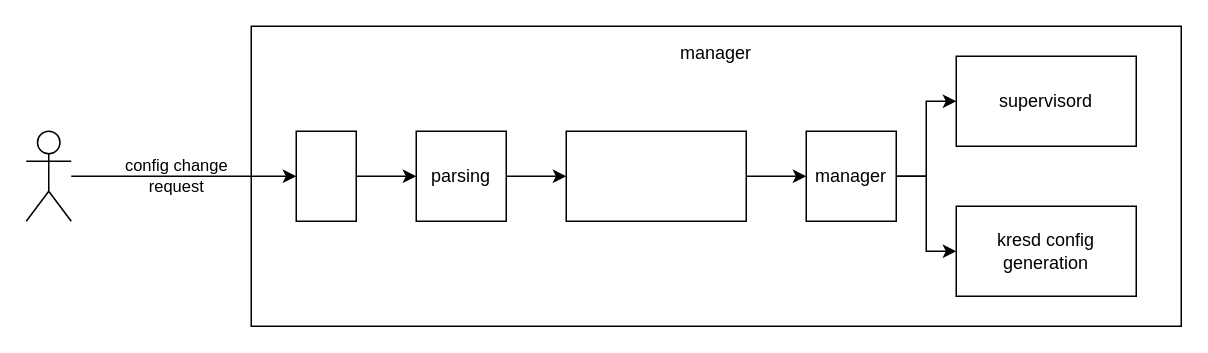
The diagram is 1208 pixels wide and 353 high, and some of its shapes have lost their labels. The centre of each missing label's shape, as x and y in pixels:
API: pixel 325 175
validation & normalization: pixel 655 175
